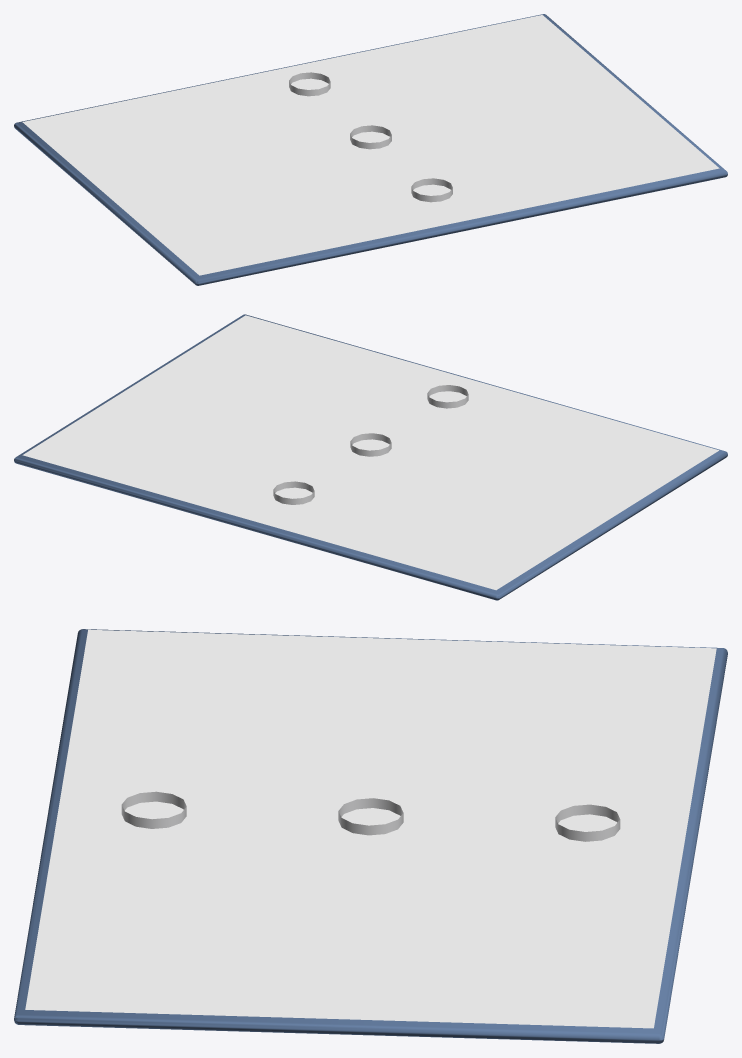
The model's file is CoreAnte_Manual.fbx.
3 views of the same model, one above another, from view 1: azimuth 30°, elevation 25°; view 2: azimuth 150°, elevation 25°; view 3: azimuth 270°, elevation 25° (orthographic). The views are drawn at different scales.
Parts seen in each view (by area): view 1: CoreAnte_Manual; view 2: CoreAnte_Manual; view 3: CoreAnte_Manual.
Part boxes in pixels (left/top/right/bottom): CoreAnte_Manual: left=14, top=14, right=727, bottom=285; CoreAnte_Manual: left=14, top=314, right=727, bottom=600; CoreAnte_Manual: left=14, top=629, right=727, bottom=1043.
Size of the model in its own units: 0.3557 by 0.012 by 0.2629.
